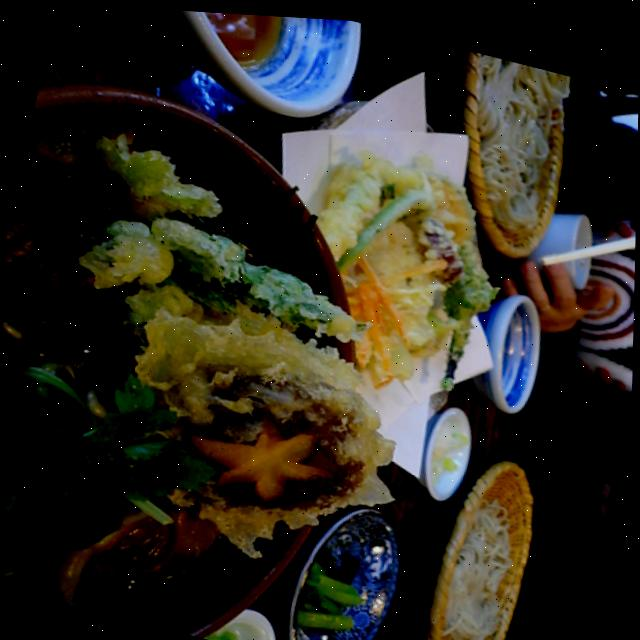蔬菜料理: (0, 64, 555, 619)
